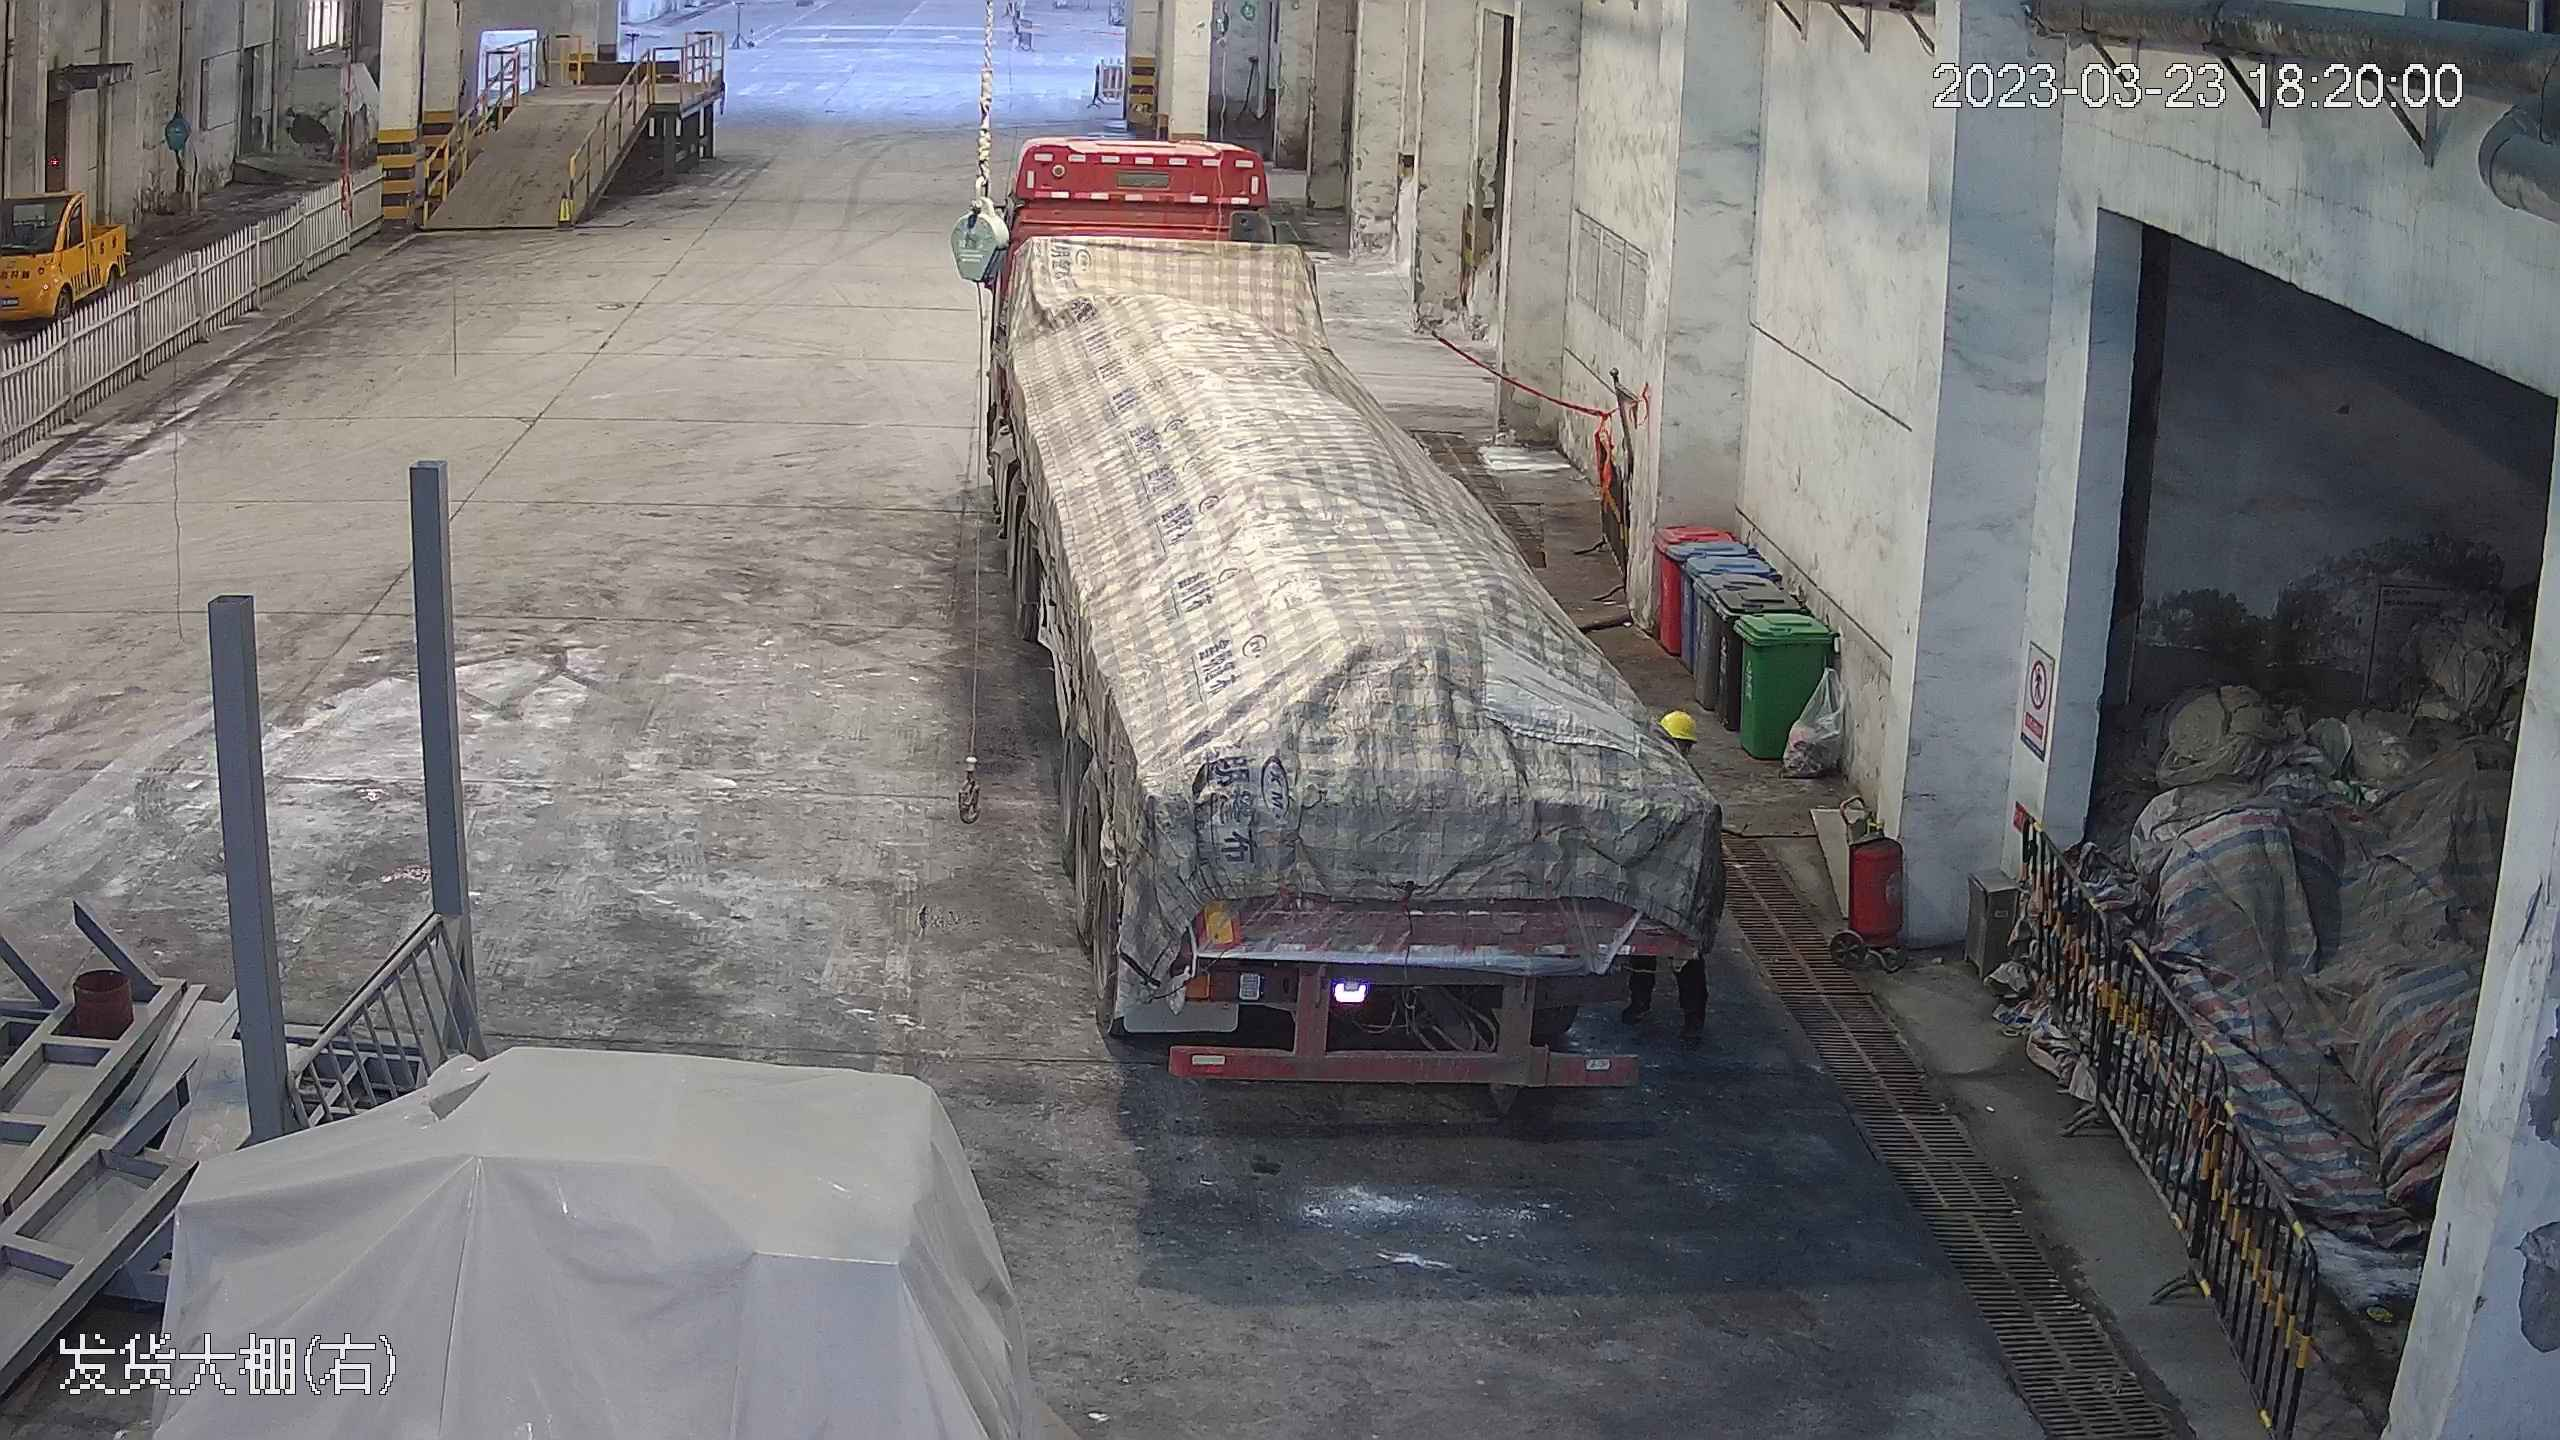helmet: (1660, 705, 1700, 740)
truck: (944, 109, 1748, 1101)
